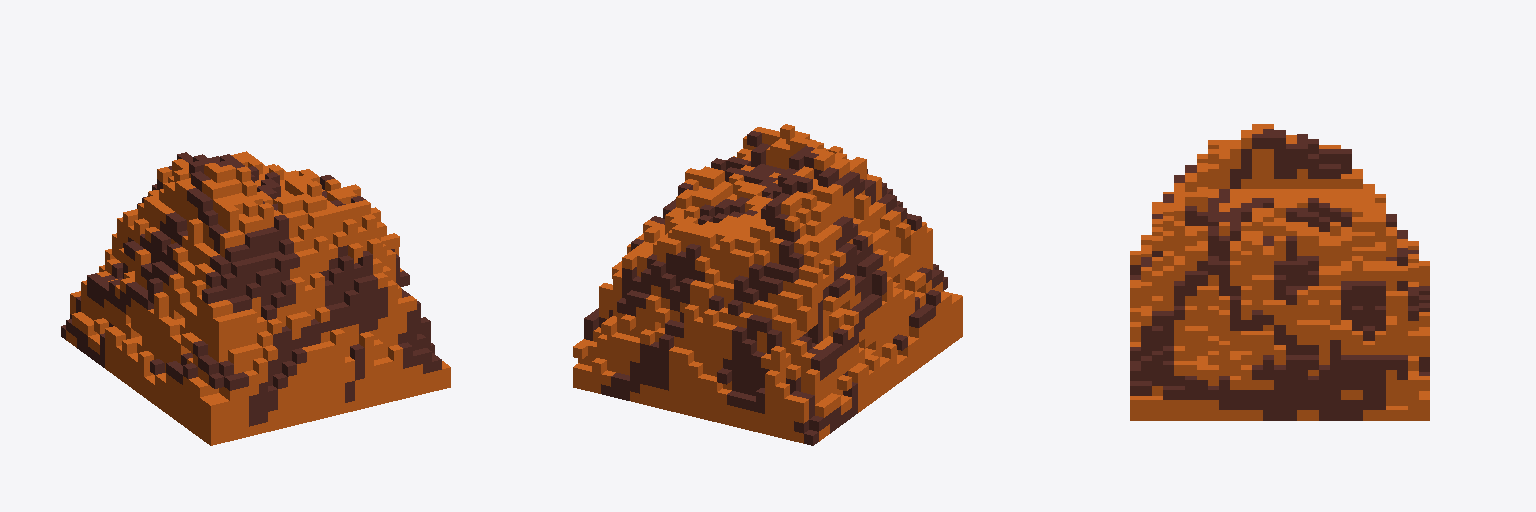
3 renders of one model, left to right at view 1: azimuth 30°, elevation 25°; view 2: azimuth 150°, elevation 25°; view 3: azimuth 270°, elevation 25°, orthographic.
Visible parts, largest first — view 1: object 1; view 2: object 1; view 3: object 1.
Boxes of the visible parts, <box> form: object 1: <box>61,151,450,445</box>; object 1: <box>573,124,962,445</box>; object 1: <box>1130,124,1429,420</box>.
Bounding box in the file's own units: 2.5 × 2.1 × 2.7.
1 materials, 1 textured.